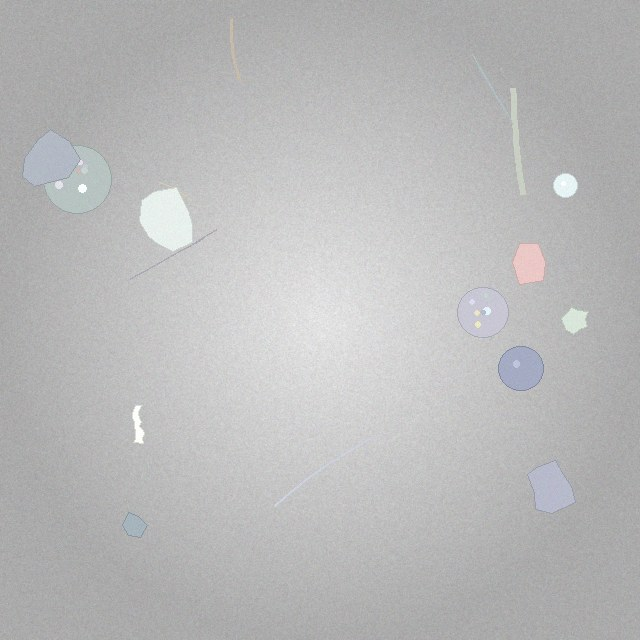fiber: (272, 434, 380, 508), (128, 227, 219, 283), (469, 52, 516, 127), (507, 83, 529, 200), (228, 16, 244, 84), (157, 180, 193, 202)
film: (132, 406, 144, 443)
foam: (43, 145, 112, 214), (457, 287, 508, 338)
fragment: (139, 187, 193, 252), (22, 130, 80, 186), (527, 460, 575, 514), (512, 243, 546, 284), (562, 307, 589, 334), (123, 513, 147, 538)
pellet: (499, 346, 543, 391), (554, 174, 578, 198)
